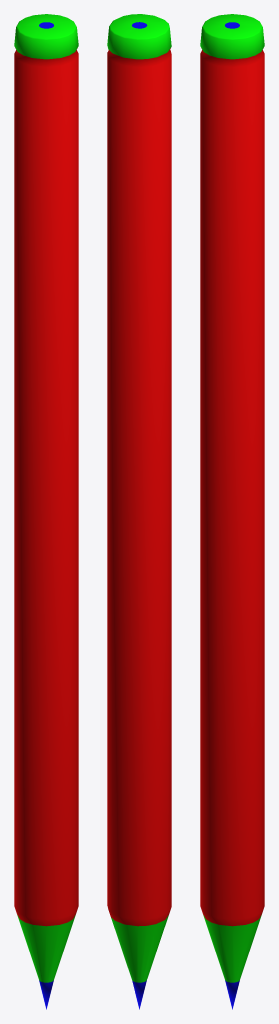
File: Lápiz.fbx
The picture shows the model from 3 angles, left to right: view 1: azimuth 90°, elevation 25°; view 2: azimuth 150°, elevation 25°; view 3: azimuth 270°, elevation 25°; orthographic projection.
Parts seen in each view (by area): view 1: Lápiz; view 2: Lápiz; view 3: Lápiz.
Boxes of the visible parts, x1=… form: Lápiz: x1=14, y1=14, x2=78, y2=1009; Lápiz: x1=107, y1=14, x2=171, y2=1009; Lápiz: x1=200, y1=14, x2=264, y2=1009.
Size of the model in its own units: 0.8896 by 14.98 by 0.8896.
